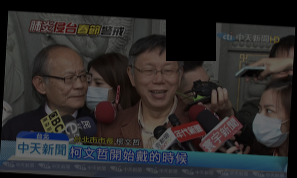with_mask: (251, 102, 289, 146), (84, 76, 115, 114)
without_mask: (134, 58, 179, 110), (43, 65, 87, 112)
